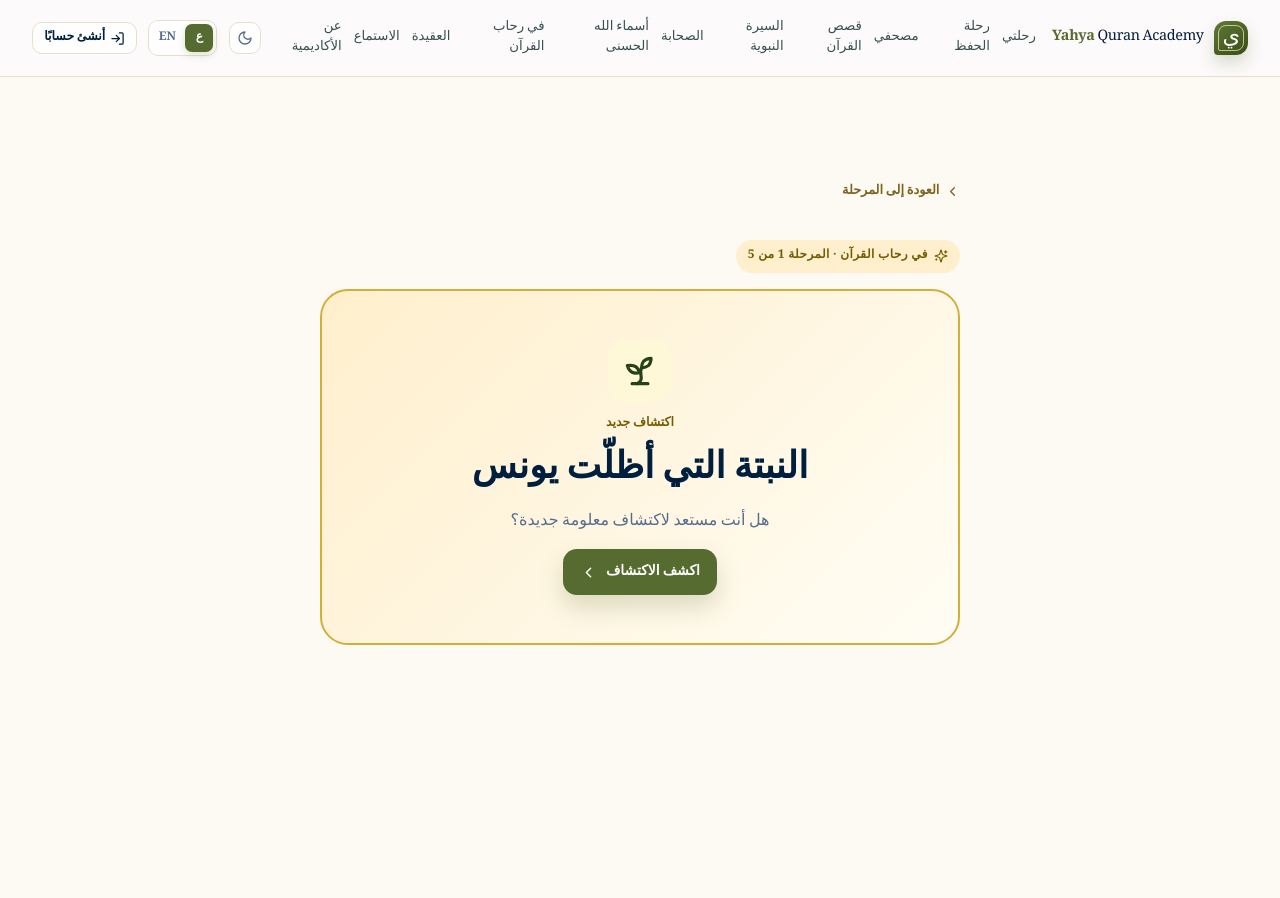
the Quran discovery journey › shows the stage completion surface after the final discovery in a stage
Click the button "اكشف الاكتشاف".
click(640, 572)  # box [563, 549, 717, 595]
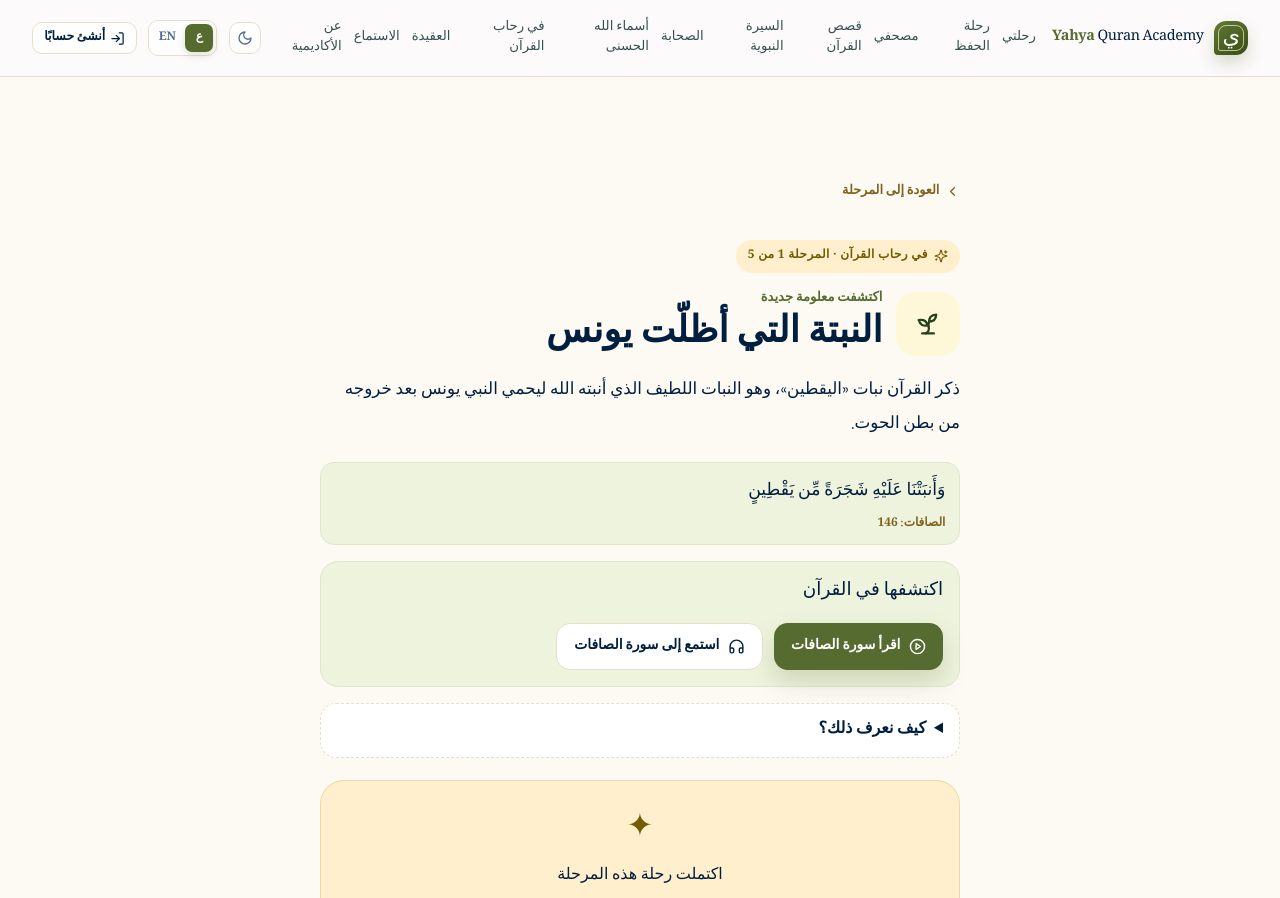
Expected: the heading "اكتملت رحلة هذه المرحلة" is shown, [557, 864, 723, 888]
